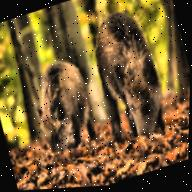boar: (74, 0, 182, 164), (11, 44, 105, 168)
